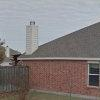Chimney: (20, 10, 45, 62)
